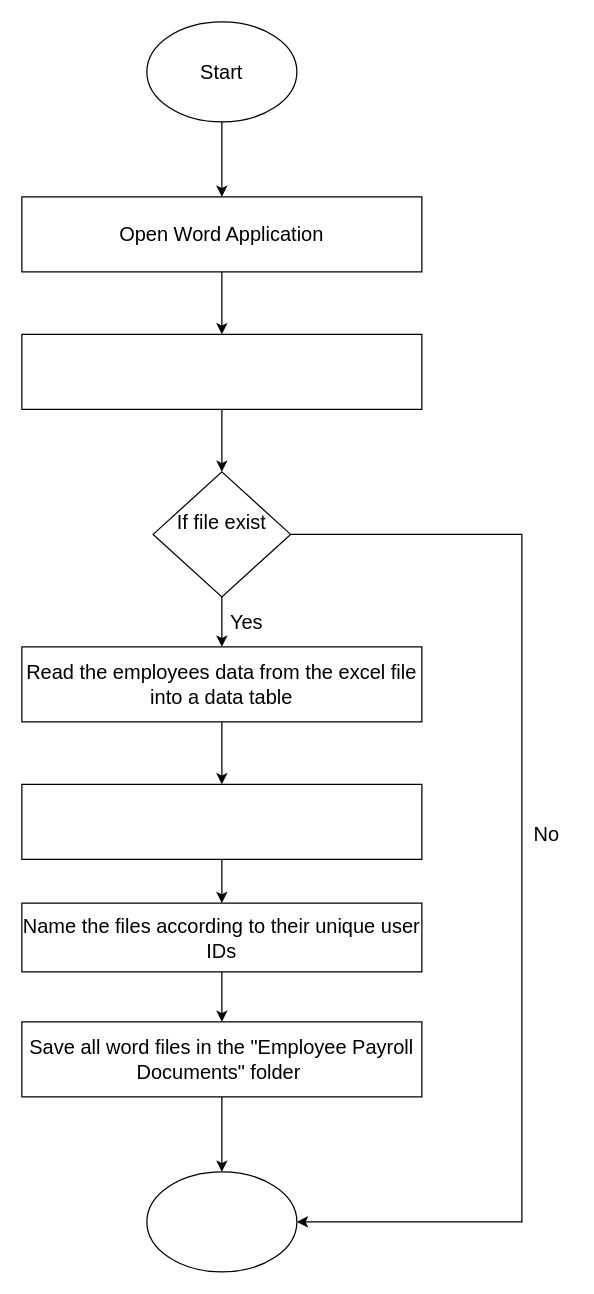
The diagram is 594 pixels wide and 1294 high, and some of its shapes have lost their labels. The shapes that lost their labels are listed below. From the top down, each one's centre as x and y in pixels, then its label:
point (221, 371): Navigate to “payslip format.docx” folder
point (221, 821): For every row of the data table, fill the word file with appropriate fields
point (221, 1221): Stop
